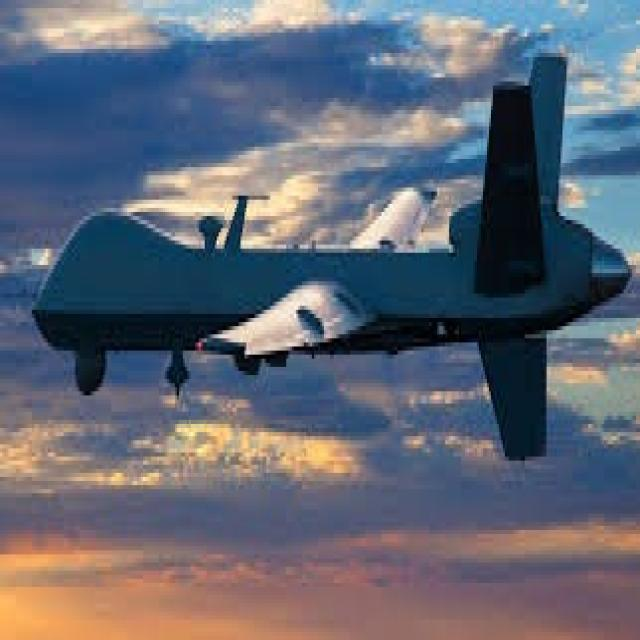MQ9: (13, 19, 640, 544)
